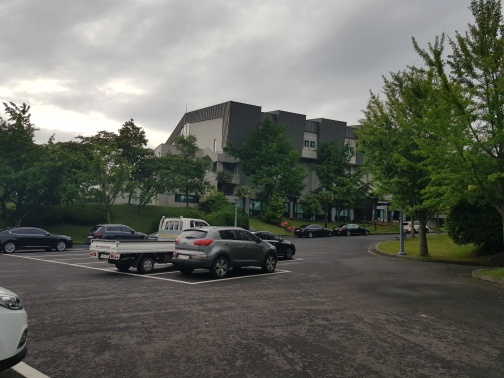Gym: (167, 98, 403, 223), (215, 102, 350, 165)
